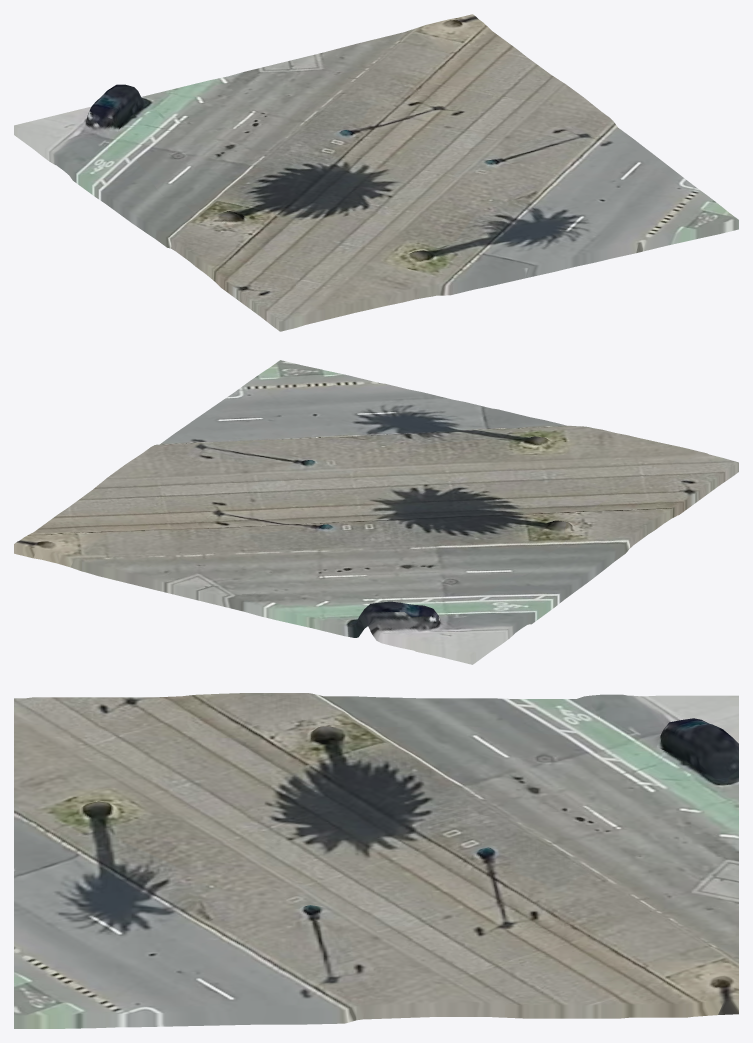
Rendered from z20-167783-405213-h0-yup-uvflip-v3-world.glb.
3 renders of one model, top to bottom at view 1: azimuth 30°, elevation 25°; view 2: azimuth 150°, elevation 25°; view 3: azimuth 270°, elevation 25°, orthographic. The views are drawn at different scales.
Size of the model in its own units: 30.16 by 2.64 by 30.32.
Materials: 1 (1 with a texture image).
